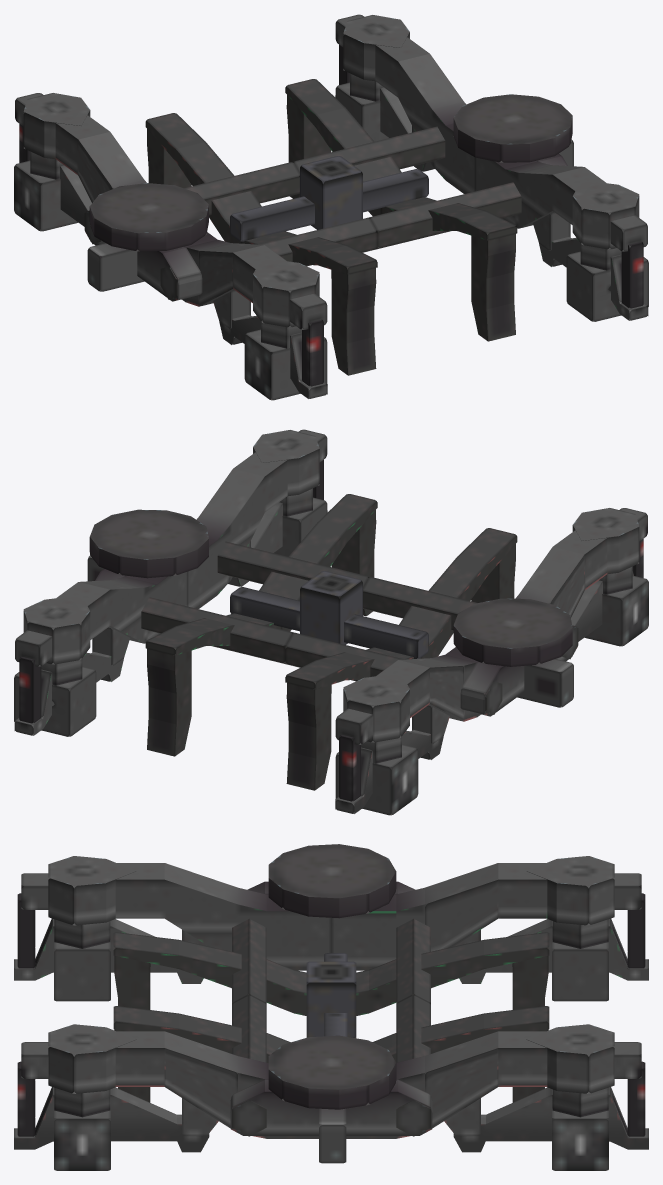
3 renders of one model, top to bottom at view 1: azimuth 30°, elevation 25°; view 2: azimuth 150°, elevation 25°; view 3: azimuth 270°, elevation 25°, orthographic. The views are drawn at different scales.
Visible parts, largest first — view 1: frame_air_spring_lower; view 2: frame_air_spring_lower; view 3: frame_air_spring_lower.
Boxes of the visible parts, x1,y1,x2,y2 form: frame_air_spring_lower: [14, 14, 648, 400]; frame_air_spring_lower: [14, 429, 648, 815]; frame_air_spring_lower: [14, 844, 648, 1170].
Size of the model in its own units: 2.96 by 0.7687 by 3.19.
